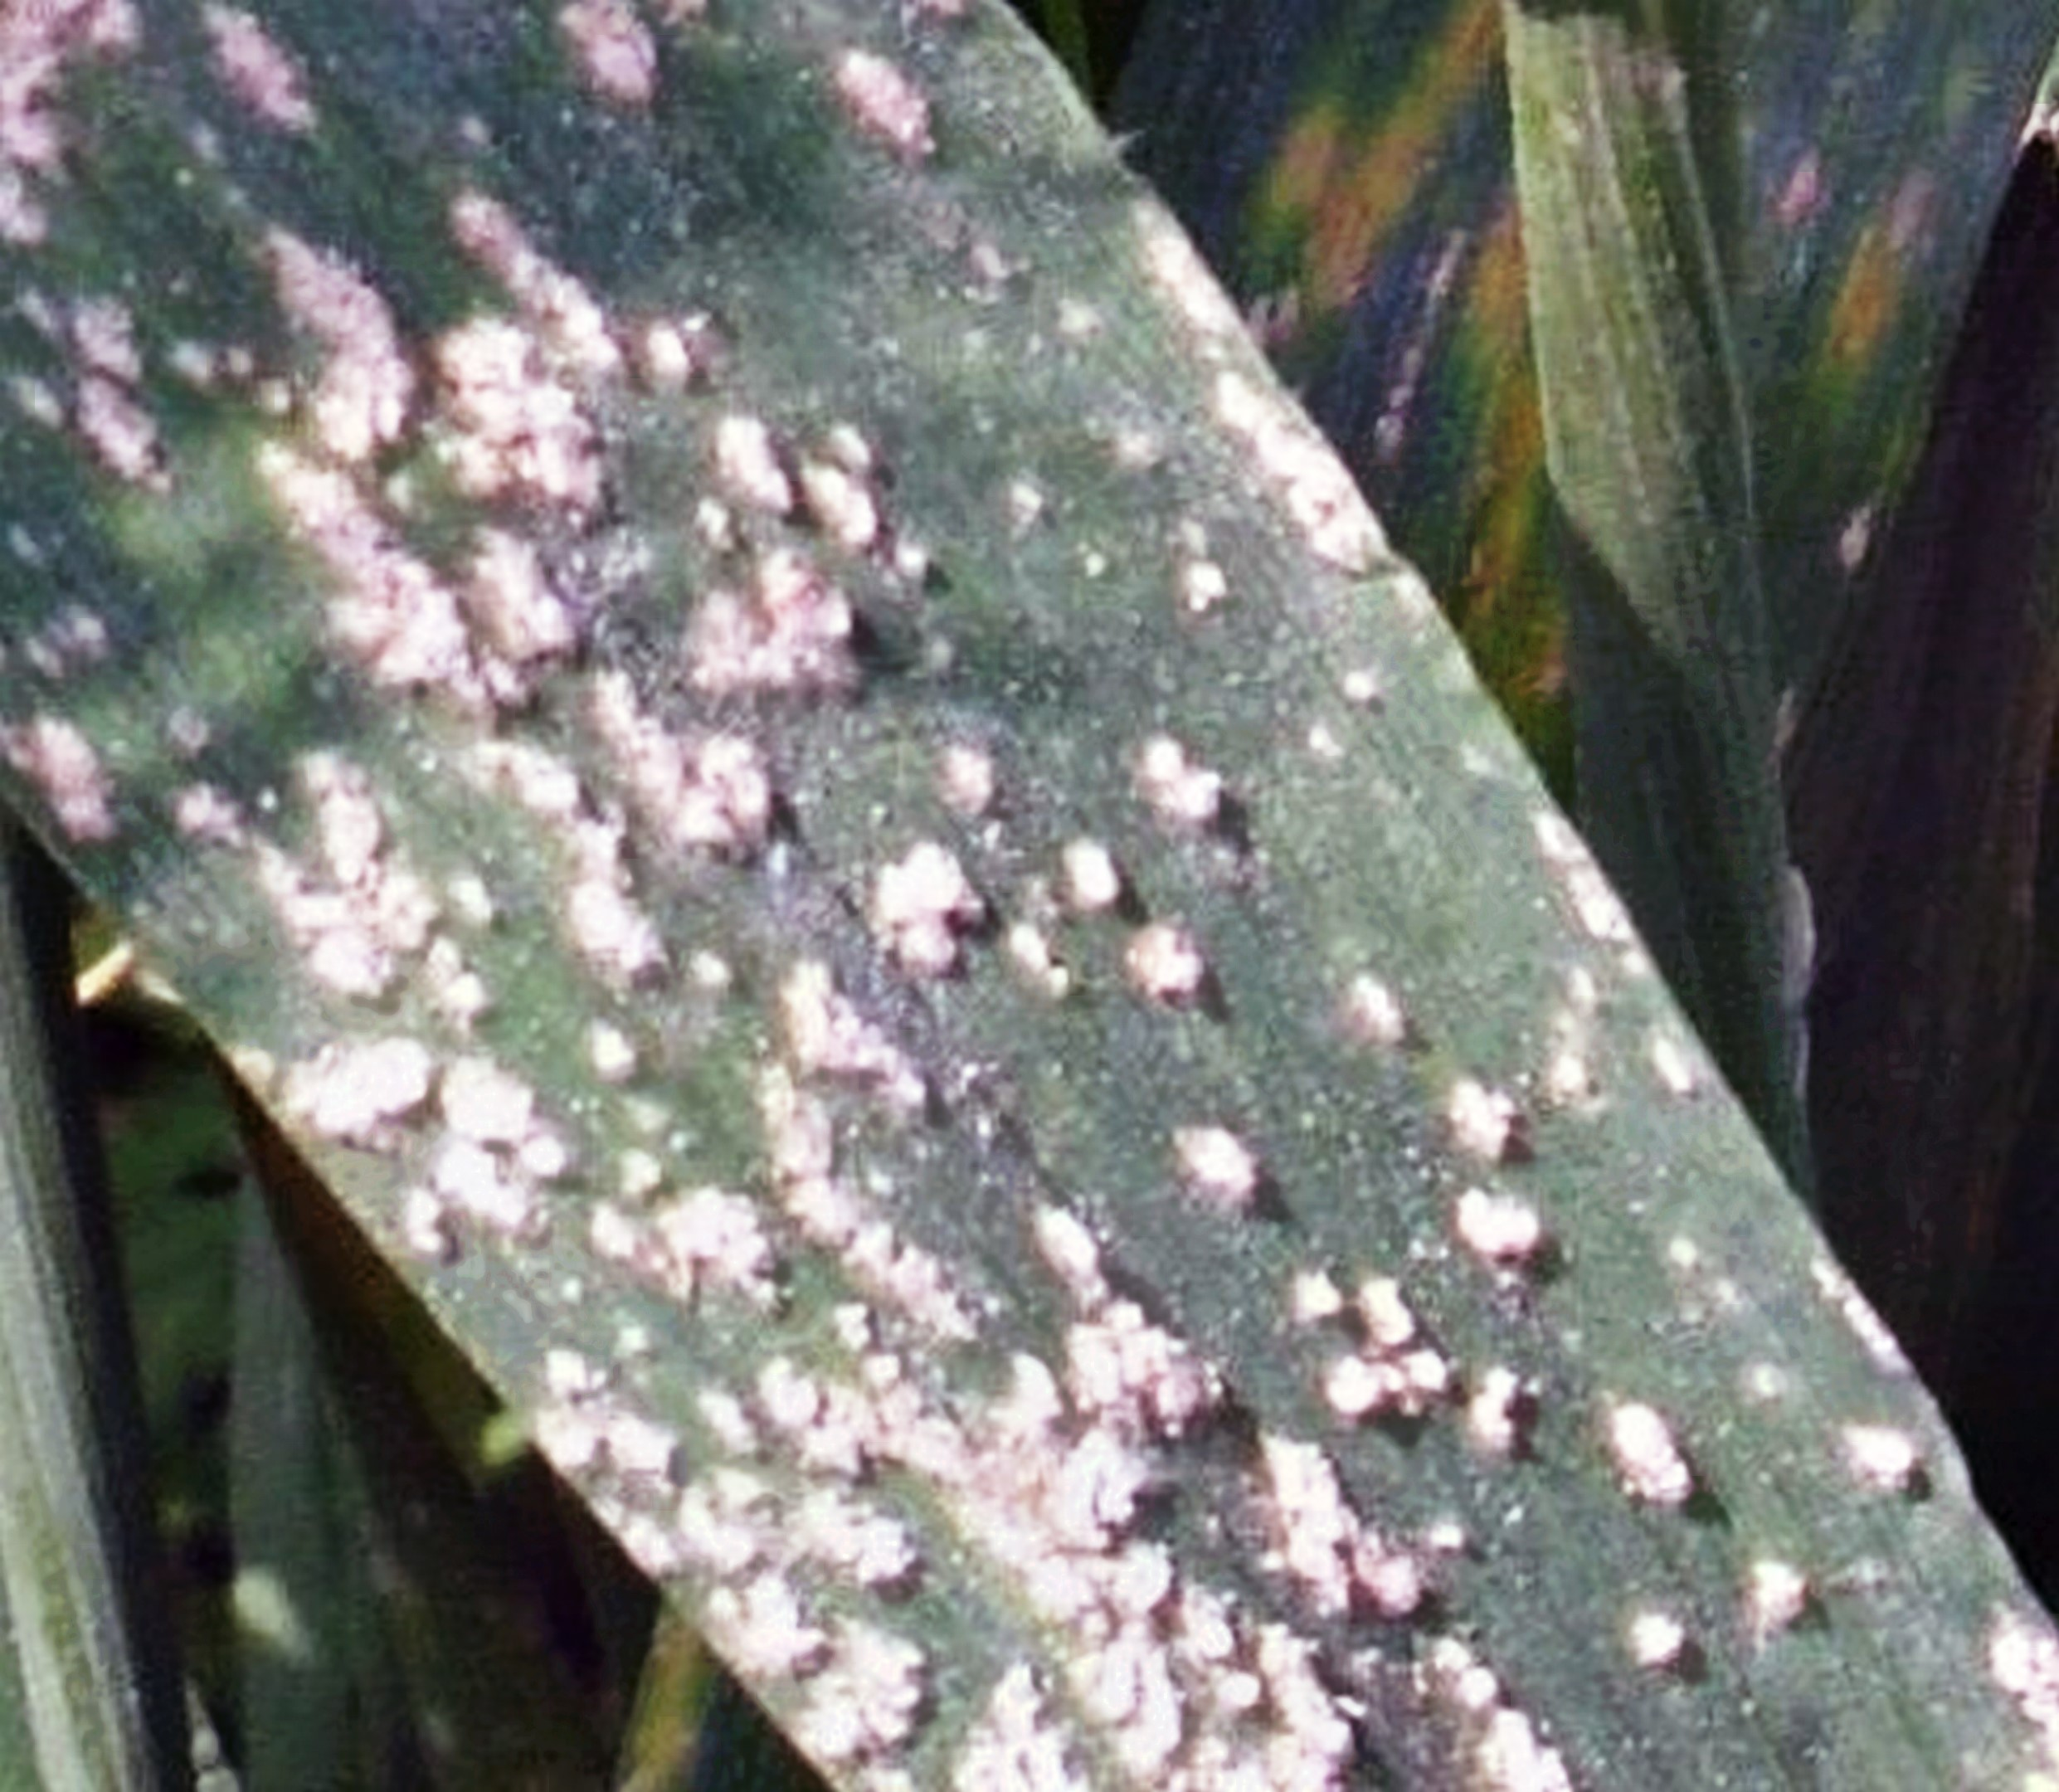Powdery Mildew: (103, 207, 1716, 1752)
